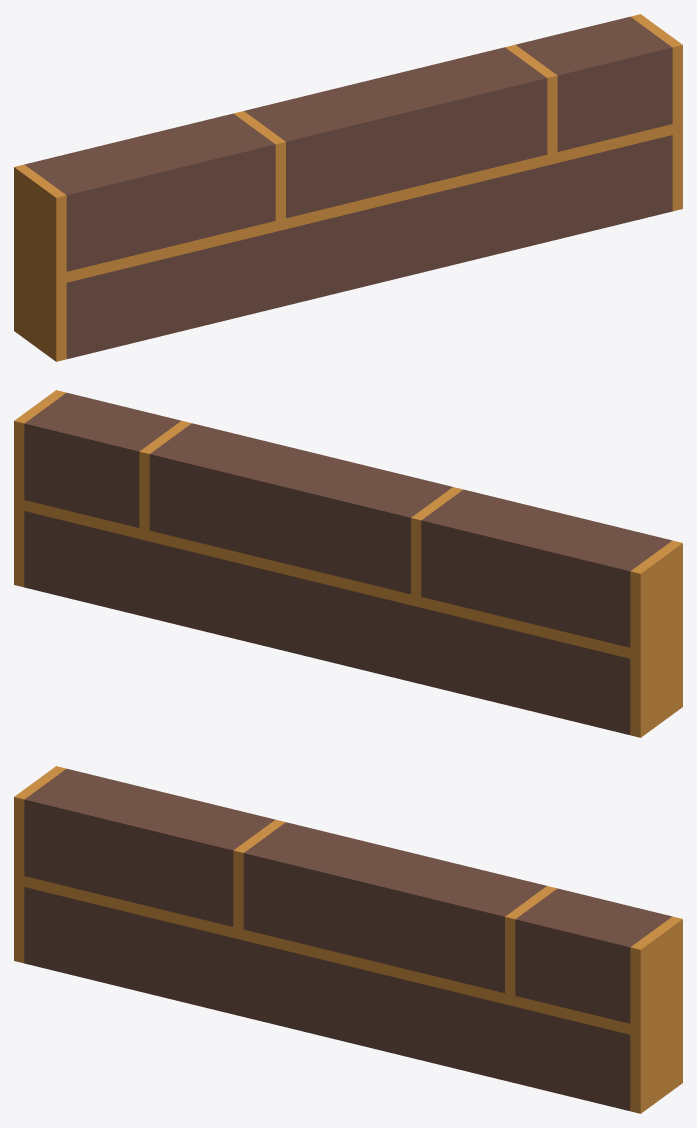
3 views of the same model, one above another, from view 1: azimuth 30°, elevation 25°; view 2: azimuth 150°, elevation 25°; view 3: azimuth 330°, elevation 25° (orthographic).
Visible parts, largest first — view 1: mesh_534291549, mesh_830981041, mesh_505231499, mesh_1699511663, mesh_1547201179, mesh_1138848981, mesh_1607612537, mesh_1046170551, mesh_914515526, mesh_1903197938, mesh_823642602, mesh_1060422615 (+3 smaller); view 2: mesh_534291549, mesh_830981041, mesh_505231499, mesh_1699511663, mesh_1547201179, mesh_1138848981, mesh_1607612537, mesh_1046170551, mesh_914515526, mesh_1903197938, mesh_823642602, mesh_1060422615 (+3 smaller); view 3: mesh_534291549, mesh_830981041, mesh_505231499, mesh_1699511663, mesh_1547201179, mesh_1138848981, mesh_2098756869, mesh_1948337926, mesh_914515526, mesh_1903197938, mesh_823642602, mesh_1060422615 (+3 smaller).
Part boxes in pixels (x1=…): mesh_534291549: x1=244, y1=47, x2=547, y2=218; mesh_830981041: x1=24, y1=113, x2=275, y2=271; mesh_505231499: x1=286, y1=163, x2=557, y2=305; mesh_1699511663: x1=66, y1=229, x2=285, y2=358; mesh_1547201179: x1=516, y1=16, x2=672, y2=151; mesh_1138848981: x1=557, y1=135, x2=672, y2=239; mesh_1607612537: x1=14, y1=164, x2=66, y2=274; mesh_1046170551: x1=14, y1=255, x2=66, y2=361; mesh_914515526: x1=286, y1=149, x2=567, y2=229; mesh_1903197938: x1=14, y1=218, x2=285, y2=285; mesh_823642602: x1=568, y1=121, x2=682, y2=160; mesh_1060422615: x1=233, y1=111, x2=285, y2=220; mesh_534291549: x1=149, y1=423, x2=452, y2=594; mesh_830981041: x1=421, y1=489, x2=672, y2=647; mesh_505231499: x1=139, y1=539, x2=410, y2=681; mesh_1699511663: x1=411, y1=605, x2=630, y2=734; mesh_1547201179: x1=24, y1=392, x2=180, y2=527; mesh_1138848981: x1=24, y1=511, x2=139, y2=615; mesh_1607612537: x1=630, y1=540, x2=682, y2=650; mesh_1046170551: x1=630, y1=631, x2=682, y2=737; mesh_914515526: x1=139, y1=528, x2=410, y2=605; mesh_1903197938: x1=411, y1=594, x2=682, y2=661; mesh_823642602: x1=14, y1=497, x2=139, y2=538; mesh_1060422615: x1=411, y1=487, x2=463, y2=596; mesh_534291549: x1=243, y1=822, x2=546, y2=993; mesh_830981041: x1=24, y1=768, x2=274, y2=926; mesh_505231499: x1=243, y1=940, x2=515, y2=1082; mesh_1699511663: x1=24, y1=887, x2=243, y2=1016; mesh_1547201179: x1=515, y1=888, x2=672, y2=1023; mesh_1138848981: x1=515, y1=1007, x2=630, y2=1110; mesh_2098756869: x1=630, y1=916, x2=682, y2=1026; mesh_1948337926: x1=630, y1=1007, x2=682, y2=1113; mesh_914515526: x1=243, y1=929, x2=525, y2=1009; mesh_1903197938: x1=14, y1=873, x2=243, y2=940; mesh_823642602: x1=526, y1=996, x2=682, y2=1037; mesh_1060422615: x1=233, y1=819, x2=285, y2=929.
Bounding box in the file's own units: 60 × 15 × 7.
